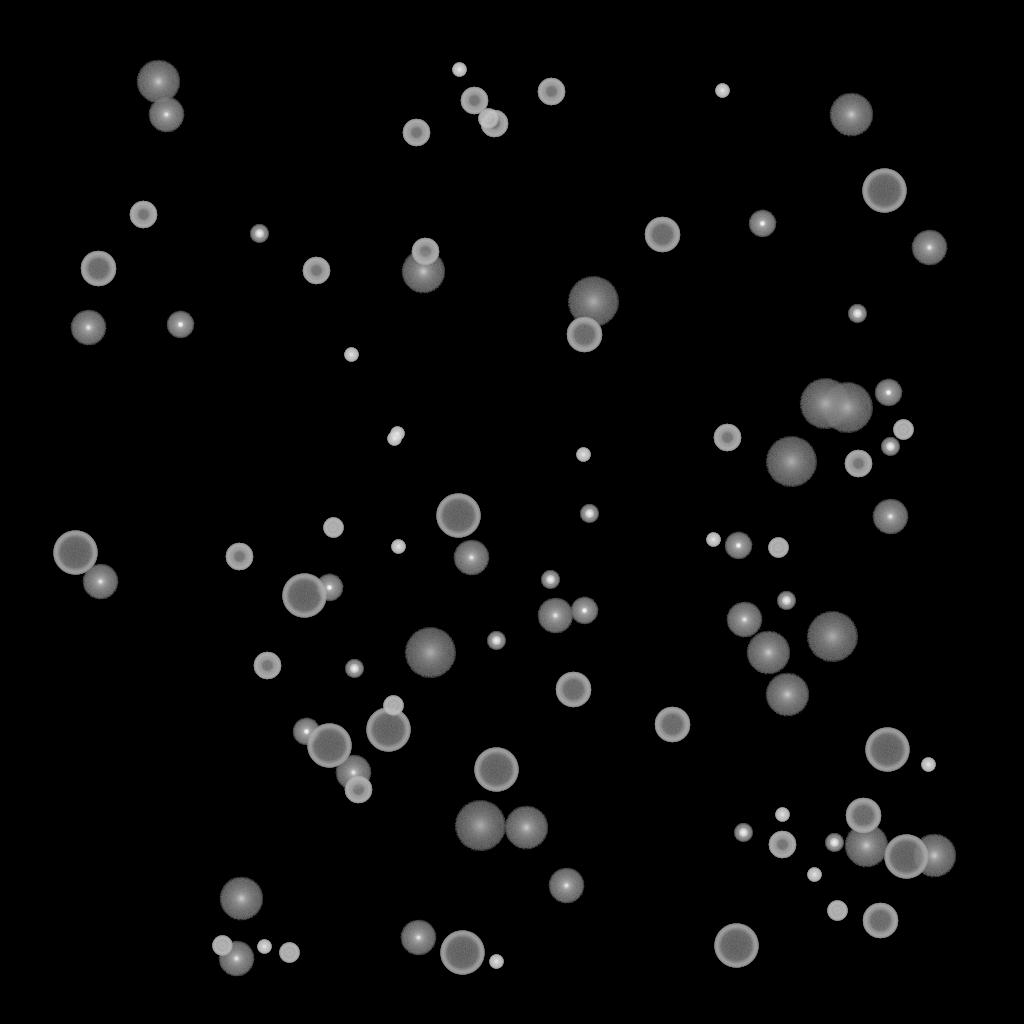depth:-10: (166, 311, 194, 339), (724, 532, 752, 560), (292, 718, 320, 746), (748, 210, 776, 238), (570, 597, 598, 625), (315, 574, 343, 602), (874, 379, 902, 407)
depth:-20: (580, 505, 598, 523), (734, 824, 752, 842), (777, 592, 795, 610), (487, 632, 505, 650), (250, 225, 268, 243), (345, 660, 363, 678), (881, 438, 899, 456), (541, 571, 559, 589), (825, 834, 843, 852), (848, 305, 866, 323)
depth:-30: (576, 448, 590, 462), (391, 540, 405, 554), (257, 940, 271, 954), (390, 427, 404, 441), (706, 533, 720, 547), (387, 432, 401, 446), (715, 84, 729, 98), (344, 348, 358, 362), (921, 758, 935, 772), (452, 63, 466, 77), (775, 808, 789, 822), (807, 868, 821, 882), (489, 955, 503, 969)
depth:-40: (323, 518, 343, 538), (893, 420, 913, 440), (212, 936, 232, 956), (827, 901, 847, 921), (383, 696, 403, 716), (478, 109, 498, 129), (279, 943, 299, 963), (768, 538, 788, 558)
depth:-50: (768, 831, 796, 859), (344, 776, 372, 804), (480, 110, 508, 138), (713, 424, 741, 452), (402, 119, 430, 147), (844, 450, 872, 478), (129, 201, 157, 229), (302, 257, 330, 285), (411, 238, 439, 266), (537, 78, 565, 106), (253, 652, 281, 680), (460, 87, 488, 115), (225, 543, 253, 571)
depth:-60: (862, 903, 898, 939), (566, 317, 602, 353), (80, 251, 116, 287), (555, 672, 591, 708), (644, 217, 680, 253), (845, 798, 881, 834), (654, 707, 690, 743)
depth:-70: (366, 708, 410, 752), (282, 574, 326, 618), (865, 728, 909, 772), (862, 169, 906, 213), (53, 531, 97, 575), (884, 835, 928, 879), (436, 494, 480, 538), (307, 724, 351, 768), (440, 931, 484, 975), (474, 748, 518, 792), (714, 924, 758, 968)
depth:0: (453, 540, 489, 576), (726, 602, 762, 638), (548, 868, 584, 904), (82, 564, 118, 600), (911, 230, 947, 266), (218, 941, 254, 977), (148, 97, 184, 133), (537, 598, 573, 634), (872, 499, 908, 535), (70, 310, 106, 346), (400, 920, 436, 956), (335, 755, 371, 791)
depth:10: (219, 877, 263, 921), (136, 60, 180, 104), (844, 824, 888, 868), (504, 806, 548, 850), (829, 93, 873, 137), (401, 250, 445, 294), (746, 631, 790, 675), (912, 834, 956, 878), (765, 673, 809, 717)
depth:20: (806, 612, 858, 662), (454, 801, 506, 851), (799, 379, 851, 429), (765, 437, 817, 487), (404, 628, 456, 678), (567, 277, 619, 327), (821, 383, 873, 433)
